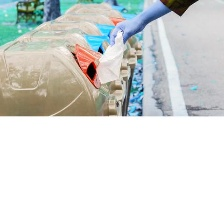tissue: (94, 26, 130, 83)
